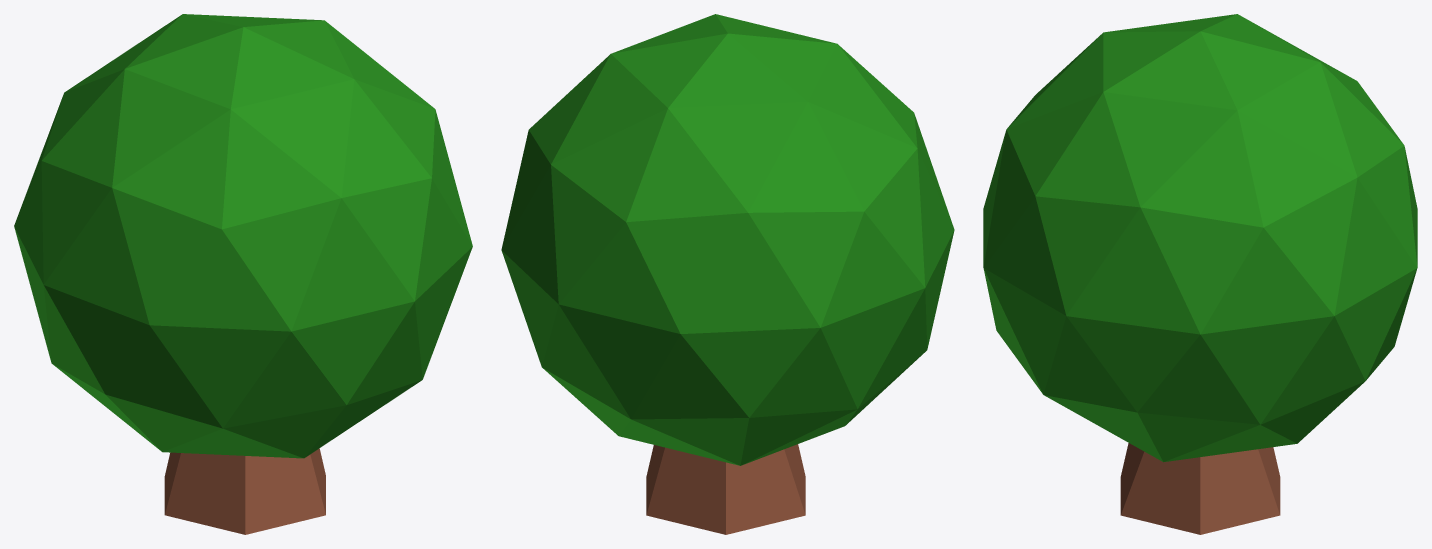
The model's file is Bush_2_summer.fbx.
3 views of the same model, side by side, from view 1: azimuth 30°, elevation 25°; view 2: azimuth 150°, elevation 25°; view 3: azimuth 270°, elevation 25° (orthographic).
Parts seen in each view (by area): view 1: Bush_2_summer; view 2: Bush_2_summer; view 3: Bush_2_summer.
Part boxes in pixels (bbox=[...]): Bush_2_summer: bbox=[14, 14, 472, 534]; Bush_2_summer: bbox=[501, 14, 954, 534]; Bush_2_summer: bbox=[983, 14, 1417, 534].
Size of the model in its own units: 35.19 by 39.46 by 33.47.
